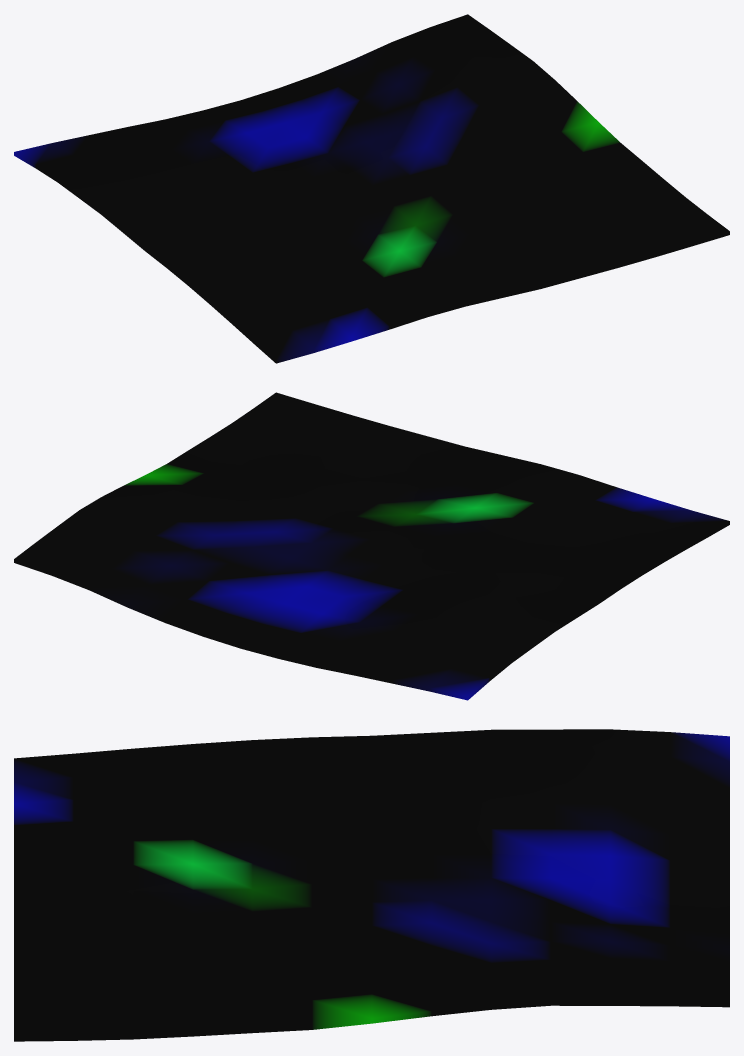
Rendered from coast_22_2.glb.
3 renders of one model, top to bottom at view 1: azimuth 30°, elevation 25°; view 2: azimuth 150°, elevation 25°; view 3: azimuth 270°, elevation 25°, orthographic. The views are drawn at different scales.
Visible parts, largest first — view 1: terrain; view 2: terrain; view 3: terrain.
Part boxes in pixels (x1,y1,x2,y2): terrain: [14, 14, 729, 363]; terrain: [14, 392, 729, 700]; terrain: [14, 729, 729, 1041].
Size of the model in its own units: 192 by 19.33 by 192.
